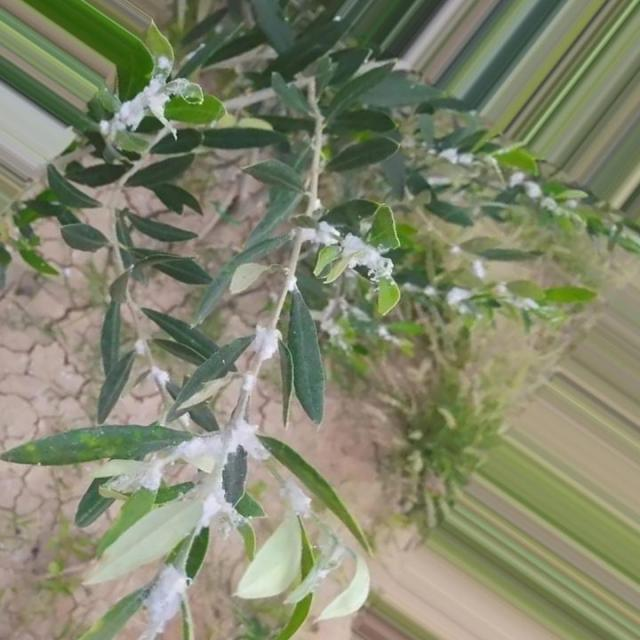Psyllid: (108, 418, 270, 534), (100, 56, 202, 156), (297, 219, 393, 283), (138, 564, 191, 639), (246, 326, 282, 364), (281, 480, 313, 518), (241, 370, 256, 398), (284, 282, 301, 292)
